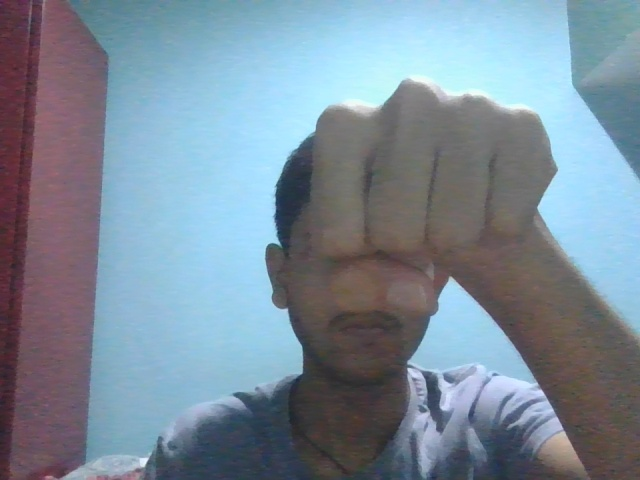yes: (283, 68, 599, 325)
